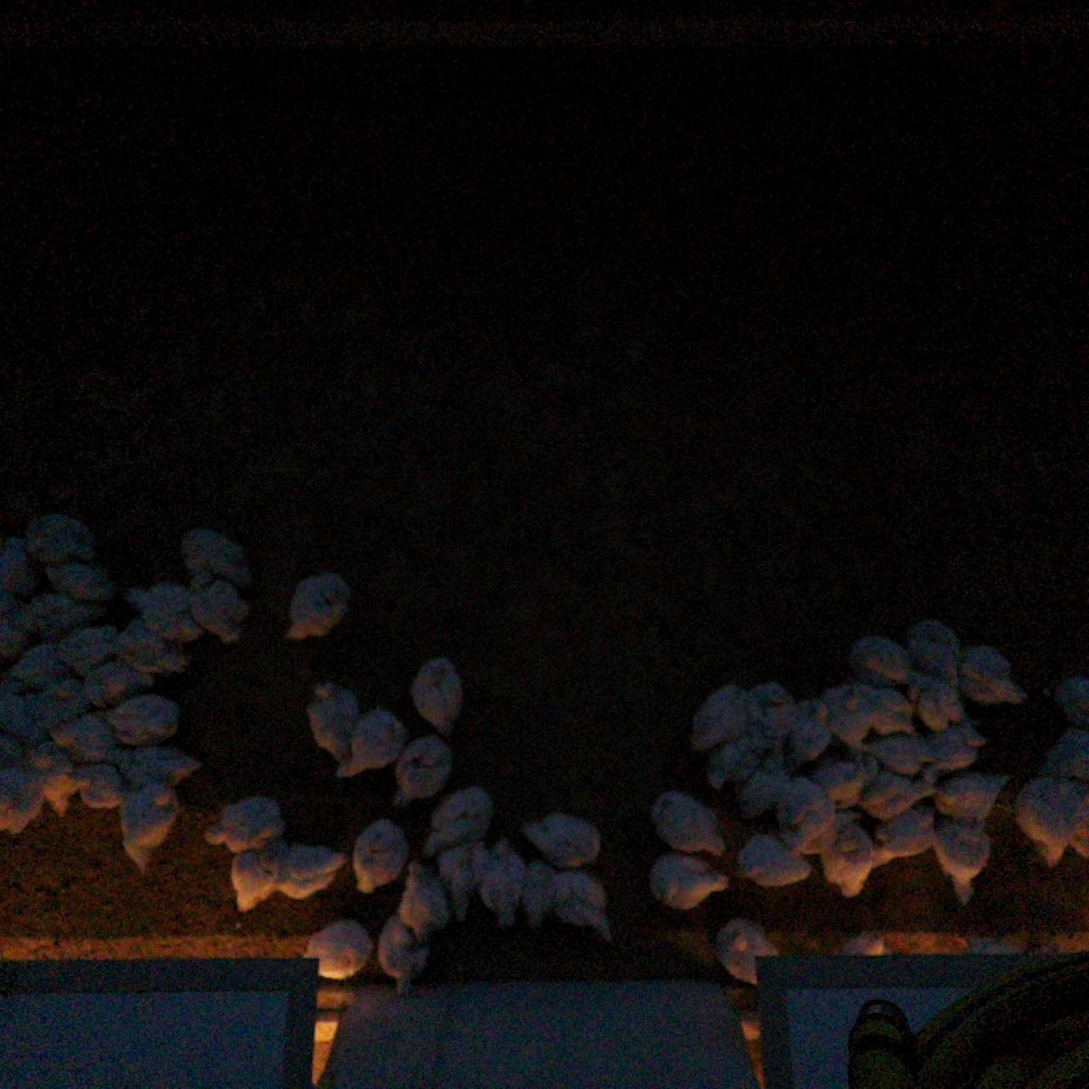chicken: (1013, 773, 1085, 871), (928, 809, 993, 910), (515, 805, 604, 878), (418, 784, 497, 863), (114, 577, 207, 644), (711, 911, 784, 996), (647, 789, 733, 861), (7, 589, 113, 644), (383, 731, 453, 814), (279, 568, 355, 644), (114, 782, 183, 864), (390, 852, 450, 946), (182, 569, 255, 646), (406, 651, 469, 739), (647, 851, 733, 914), (549, 864, 615, 946), (20, 735, 86, 816), (332, 707, 405, 779), (222, 840, 291, 916), (434, 836, 491, 927), (730, 826, 815, 887), (869, 801, 940, 872), (685, 683, 756, 754), (201, 795, 282, 857), (179, 525, 255, 591), (476, 836, 528, 932), (100, 692, 186, 750), (734, 752, 801, 826), (305, 676, 361, 764), (22, 507, 98, 571), (855, 766, 938, 824), (952, 639, 1026, 704), (773, 773, 836, 849), (81, 653, 158, 714), (269, 841, 345, 902), (111, 618, 188, 678), (931, 768, 1009, 827), (898, 665, 973, 726), (351, 814, 409, 891), (380, 916, 433, 1000), (810, 751, 884, 811), (818, 683, 878, 757), (305, 914, 371, 981), (740, 679, 794, 760), (901, 616, 963, 685), (109, 744, 201, 790), (843, 631, 914, 690), (852, 733, 941, 778), (1031, 719, 1089, 788), (818, 825, 871, 900), (517, 850, 561, 938), (782, 694, 832, 768), (51, 714, 117, 770), (38, 552, 114, 600), (0, 667, 43, 748), (925, 720, 986, 777), (799, 805, 861, 861), (702, 736, 767, 789), (854, 679, 911, 736), (9, 640, 72, 689), (59, 621, 115, 676), (0, 762, 42, 835), (68, 758, 125, 811), (0, 527, 39, 599), (34, 676, 87, 728), (0, 586, 30, 669), (836, 928, 895, 964), (1050, 673, 1089, 723), (956, 930, 1016, 960), (1065, 792, 1089, 865), (0, 726, 25, 766)
